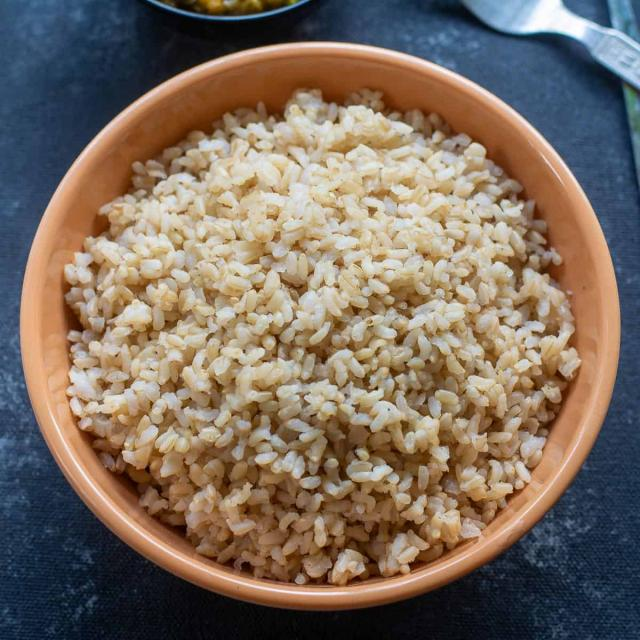Rice: (46, 81, 585, 612)
